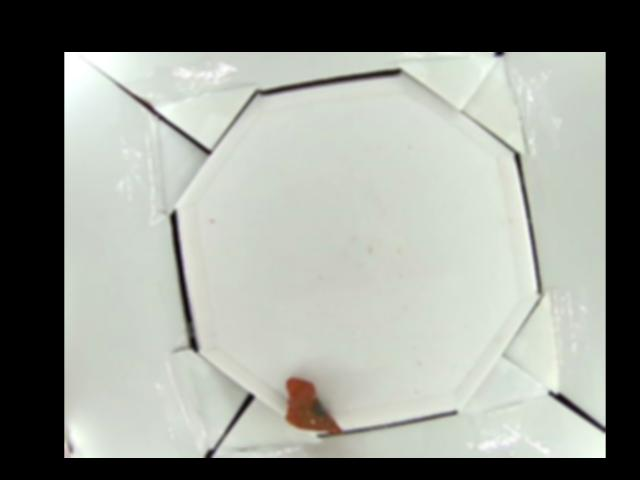Brisk: (283, 374, 342, 433)
